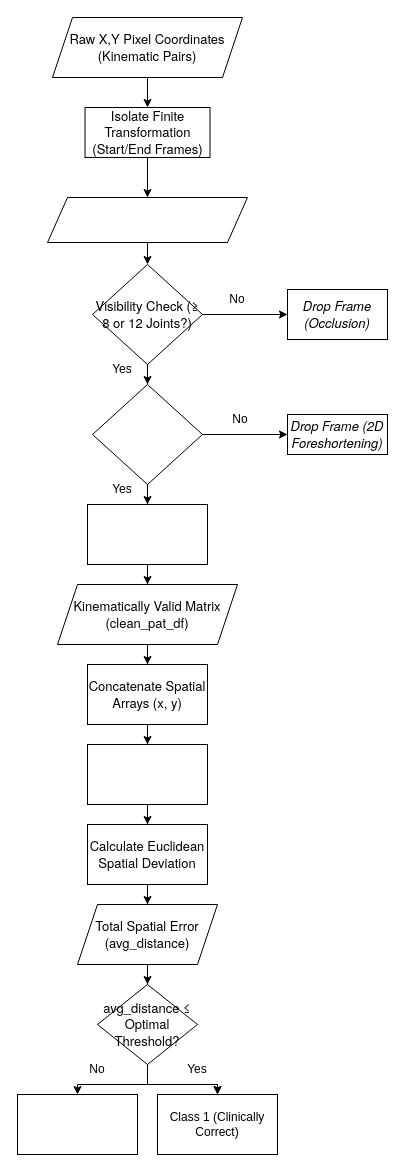
Image size: 405x1172. Some labels were removed from this diagram. The centre of each missing label's shape, as x and y in pixels:
"Apply Exponential Moving Average (EMA Span=5)" goes at (x=147, y=534).
"Class 0 (Incorrect Kinematics)" goes at (x=77, y=1124).
"Rigid Body Constraint (Bone-Length ± 20%?)" goes at (x=147, y=434).
"Temporal Alignment (FastDTW)" goes at (x=147, y=774).
"Unfiltered Positional Vectors" goes at (x=147, y=219).
